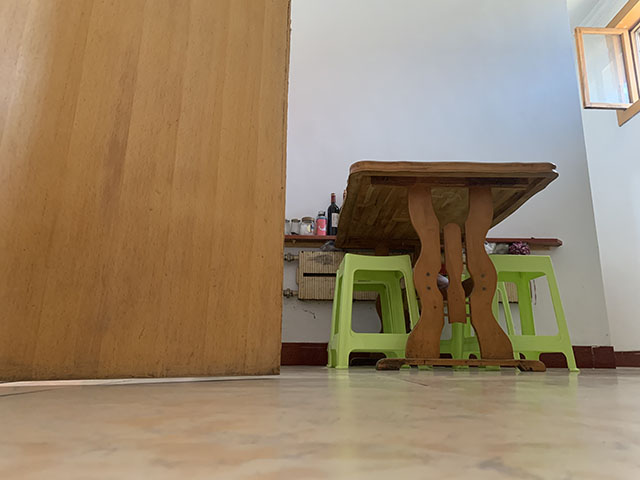stool: (440, 254, 581, 373), (323, 251, 431, 371)
table: (331, 159, 560, 374)
